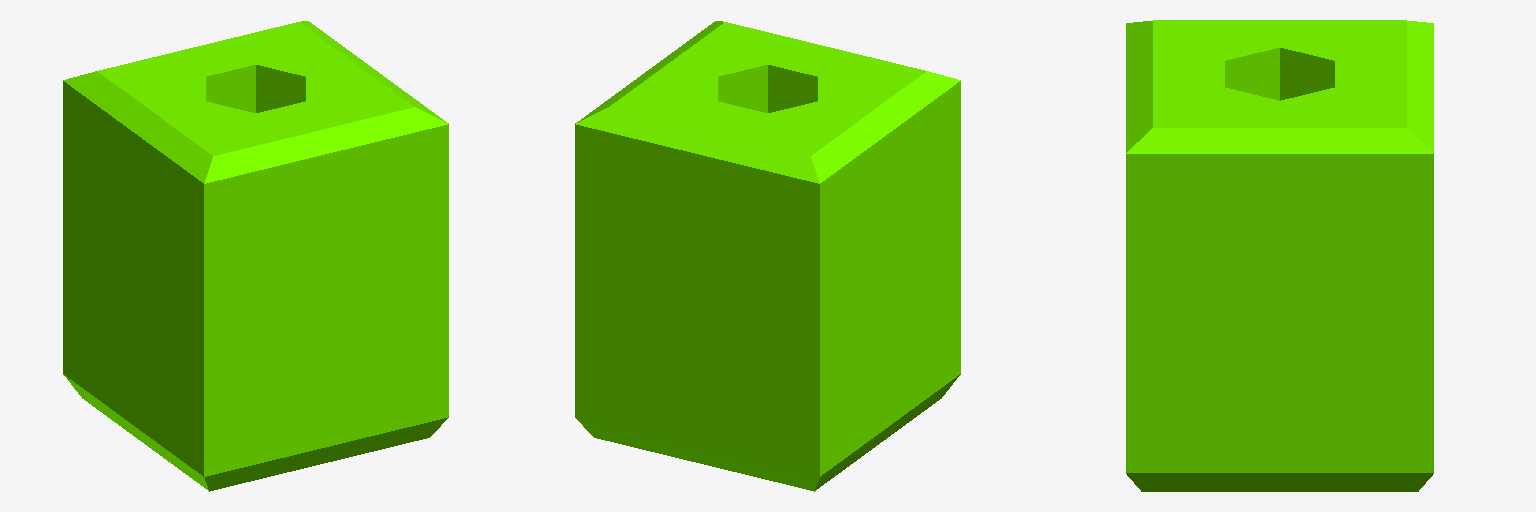
robot.urdf — peg_sqr:
<?xml version="1.0" ?>
<robot name="peg_sqr">
  <link name="peg_link">
    <contact>
      <lateral_friction value="1.0"/>
      <rolling_friction value="0.5"/>
      <contact_cfm value="0.0"/>
      <contact_erp value="1.0"/>
    </contact>
    <inertial>
      <origin rpy="0 0 0" xyz="-0.0225 0.0225 0.06"/>
        <mass value="0.1"/>
        <inertia ixx="0.01" ixy="0" ixz="0" iyy="0.01" iyz="0" izz="0.01"/>
    </inertial>
    <visual>
      <origin rpy="3.14159265359 0 0" xyz="-0.0225 0.0225 0.052"/>
      <geometry>
			  <mesh filename="meshes/peg/peg_sqr.STL" scale="0.001 0.001 0.001"/>
      </geometry>
      <material name="green">
        <color rgba="0.5 1 0 1"/>
      </material>
    </visual>
    <collision>
      <origin rpy="3.14159265359 0 0" xyz="-0.0225 0.0225 0.052"/>
      <geometry>
	 	    <mesh filename="meshes/peg/peg_sqr.STL" scale="0.001 0.001 0.001"/>
      </geometry>
    </collision>
  </link>
  <link name="peg_target_link">
    <inertial>
      <mass value="0" />
      <origin rpy="0 0 0" xyz="0.0 0.0 0.0" />
      <inertia ixx="0.0" ixy="0.0" ixz="0.0" iyy="0.0" iyz="0.0" izz="0.0" />
    </inertial>
  </link>
  <joint name="peg_link-peg_target_link" type="fixed">
    <parent link="peg_link"/>
    <child link="peg_target_link"/>
    <origin rpy="0.0 0.0 0.0" xyz="0.0 0.0 0.052"/>
  </joint>
</robot>

--- Render facts (derived) ---
3 views of the same robot in one strip: view 1: azimuth 30°, elevation 25°; view 2: azimuth 150°, elevation 25°; view 3: azimuth 270°, elevation 25° (orthographic).
Robot: peg_sqr — 2 links, 1 joints (1 fixed); root link peg_link; default pose: all joints at 0.
Links seen in each view (by area): view 1: peg_link; view 2: peg_link; view 3: peg_link.
Link boxes in pixels (x1,y1,x2,y2): peg_link: (63,21,448,491); peg_link: (575,21,960,491); peg_link: (1126,20,1433,491).
Bounding box of the posed robot: 0.039 × 0.039 × 0.05 m (x, y, z).
Meshes: 1 distinct files referenced, 1 mesh visuals loaded (1 binary STL).